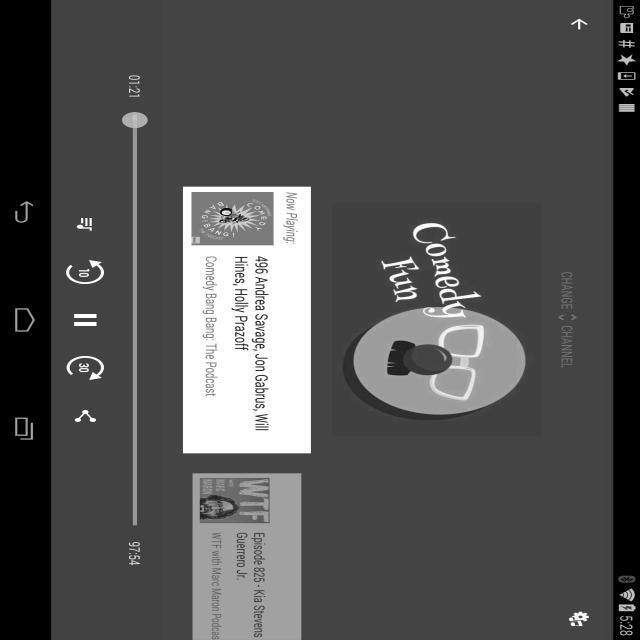TextView: (14, 47, 415, 239)
